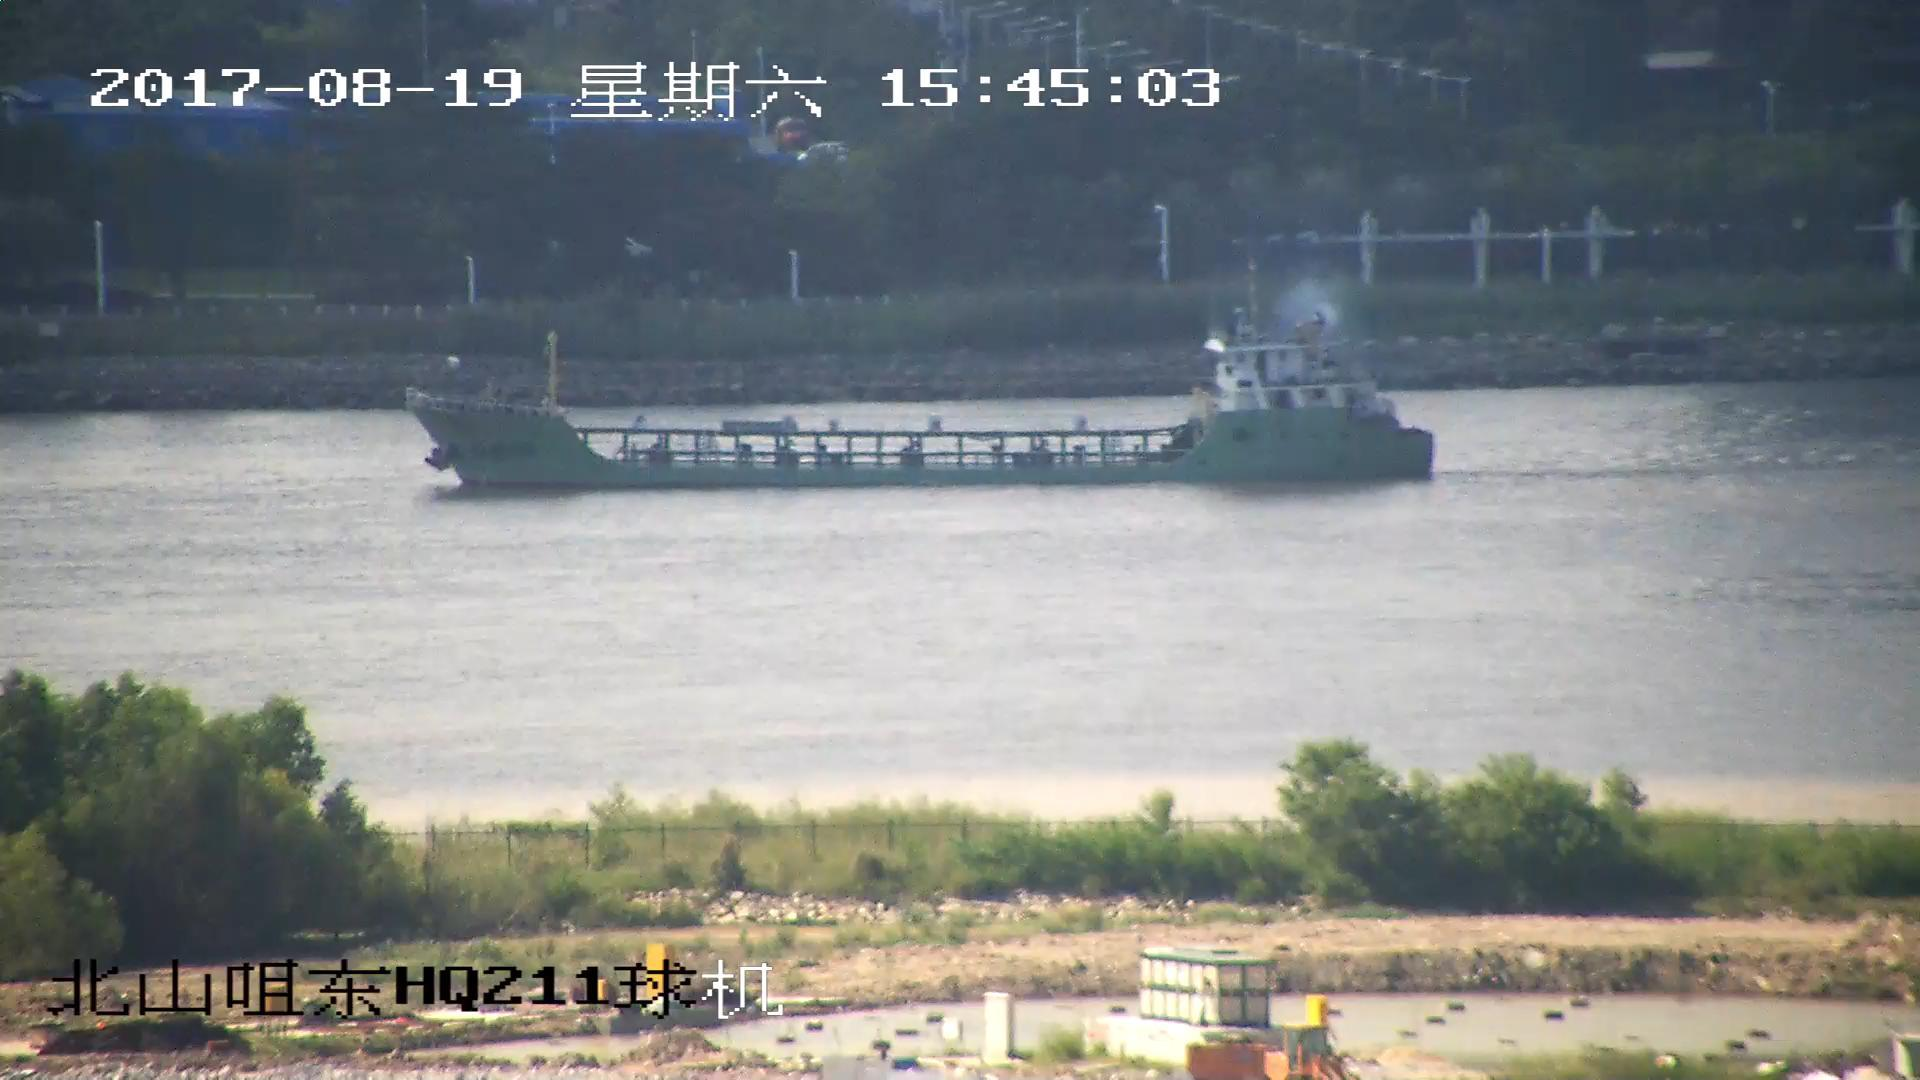Ship: (407, 282, 1440, 484)
